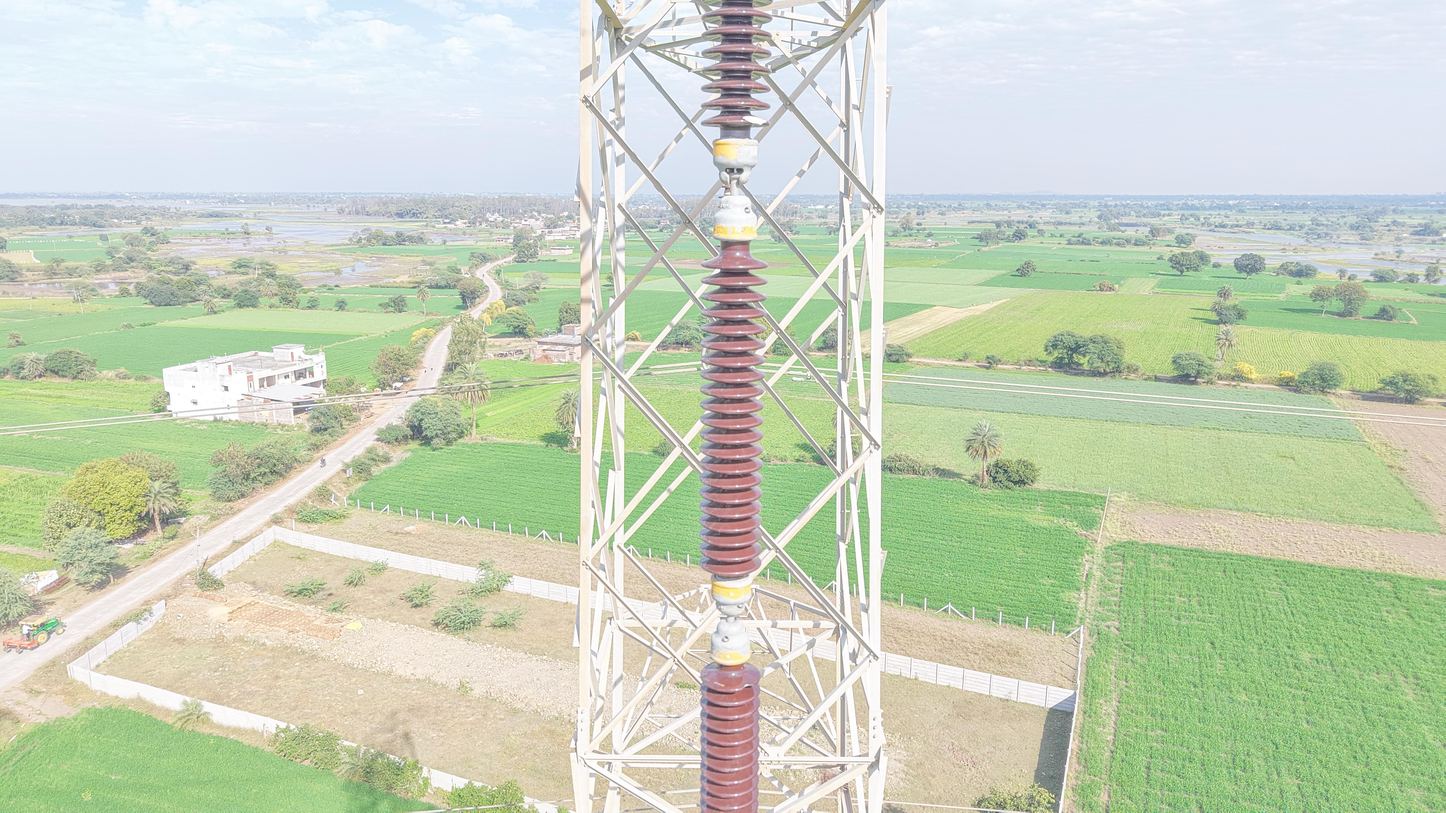broken_insulator: (699, 663, 761, 694), (700, 111, 770, 129)
